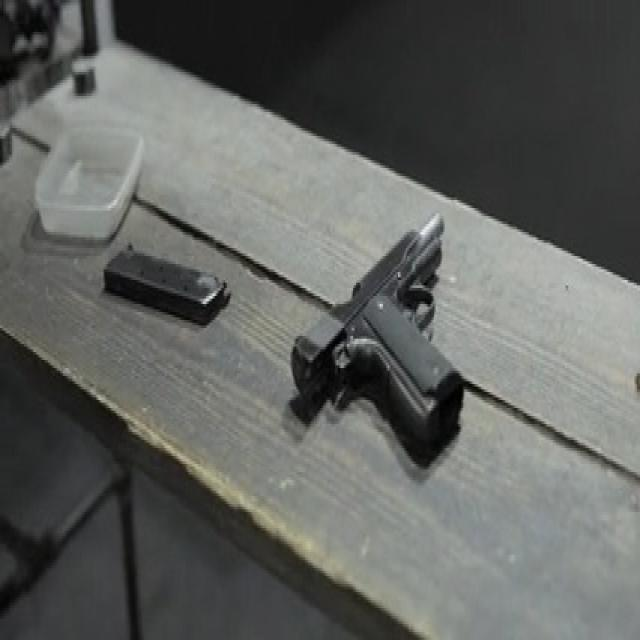Gun_Holder: (280, 173, 484, 521)
